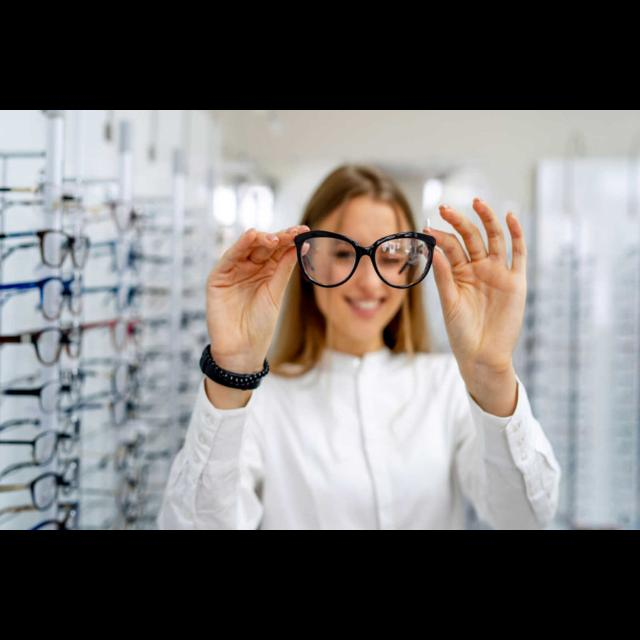glasses: (286, 224, 442, 294)
